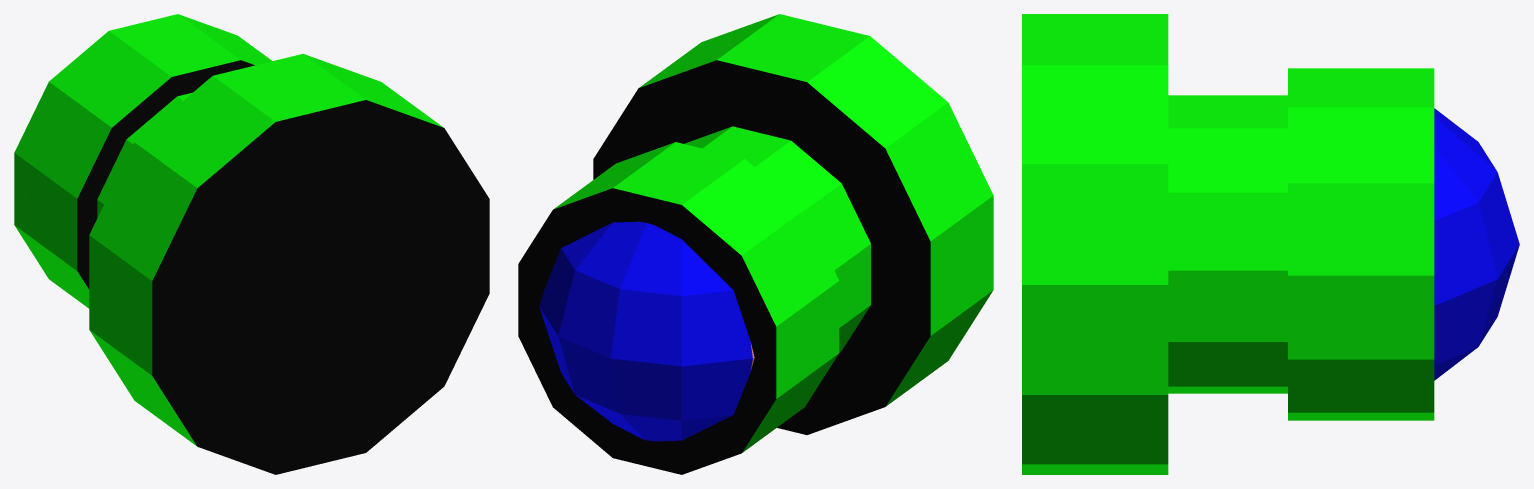
The model's file is camera.gltf.
The picture shows the model from 3 angles, left to right: view 1: azimuth 30°, elevation 25°; view 2: azimuth 150°, elevation 25°; view 3: azimuth 270°, elevation 25°; orthographic projection. The views are drawn at different scales.
Parts seen in each view (by area): view 1: cylinder (×3); view 2: cylinder (×3), sphere; view 3: cylinder (×3), sphere.
Boxes of the visible parts, x1,y1,x2,y2 form: cylinder (×3): (14, 14, 489, 474); cylinder (×3): (518, 14, 993, 474); sphere: (539, 221, 754, 441); cylinder (×3): (1022, 14, 1434, 474); sphere: (1434, 108, 1519, 380).
Size of the model in its own units: 1.06 by 1.06 by 1.17.
1 material, 1 textured.
